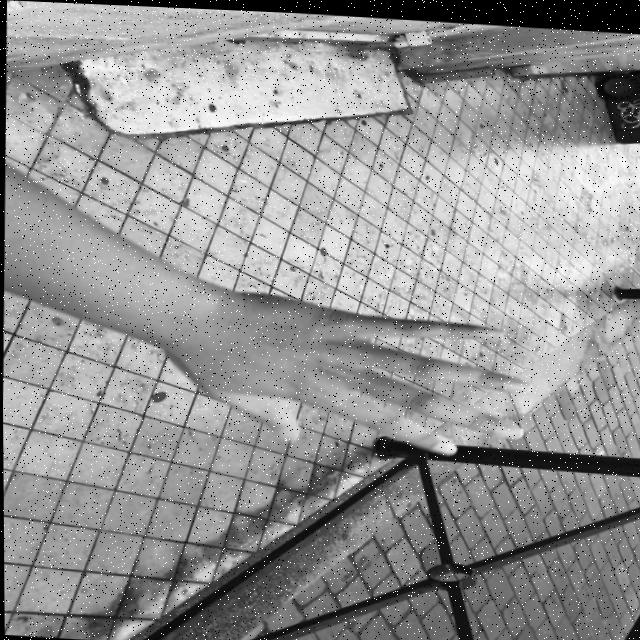hand: (167, 285, 534, 458)
